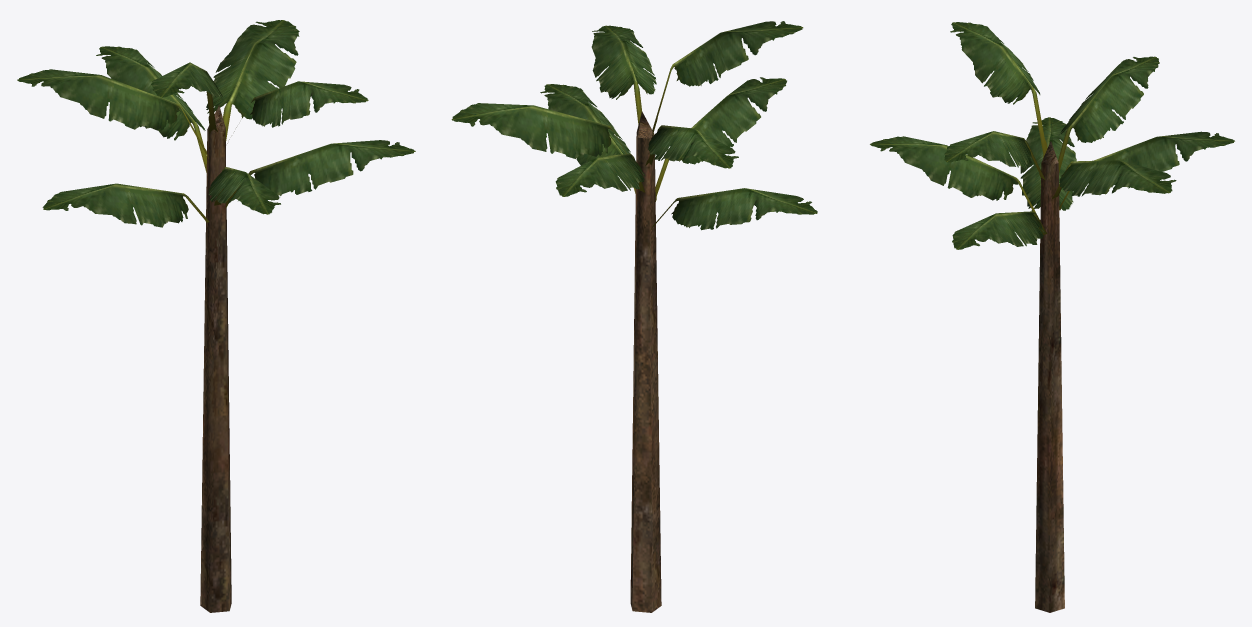
The picture shows the model from 3 angles, left to right: view 1: azimuth 30°, elevation 25°; view 2: azimuth 150°, elevation 25°; view 3: azimuth 270°, elevation 25°; orthographic projection. The views are drawn at different scales.
Parts seen in each view (by area): view 1: _Tt06a; view 2: _Tt06a; view 3: _Tt06a.
Part boxes in pixels (bbox=[...]): _Tt06a: bbox=[17, 20, 415, 612]; _Tt06a: bbox=[451, 21, 817, 612]; _Tt06a: bbox=[870, 22, 1234, 612].
Size of the model in its own units: 3.16 by 5.14 by 3.27.
Materials: 2 (2 with a texture image).
